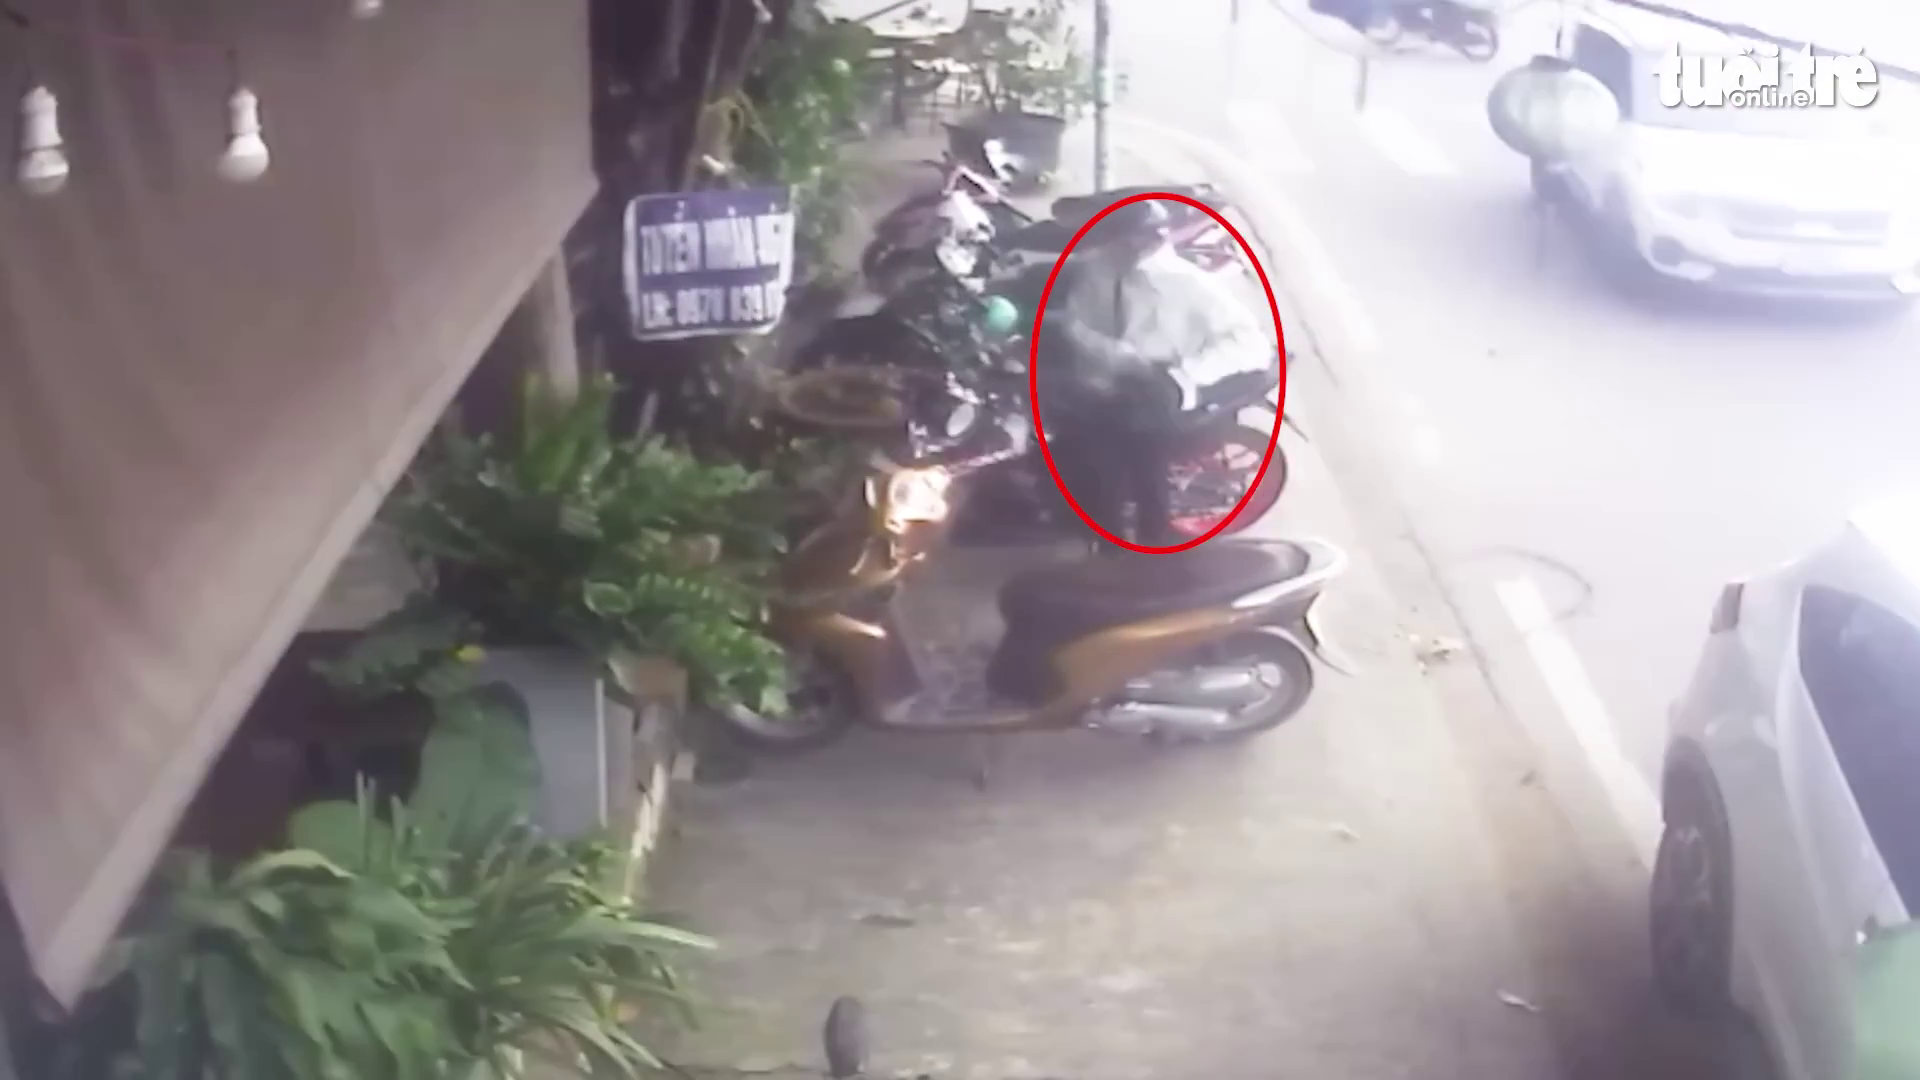Motorcycle: (738, 132, 1292, 564), (692, 447, 1349, 764), (1362, 1, 1502, 62)
